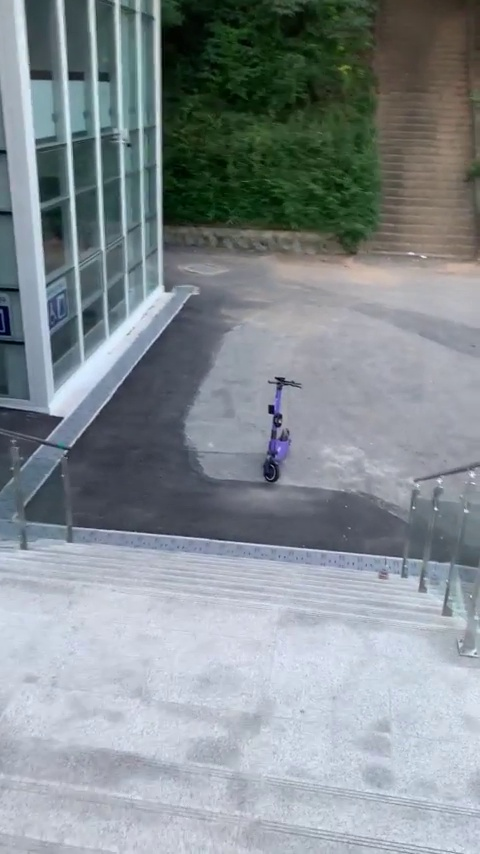beam: (255, 372, 310, 487)
